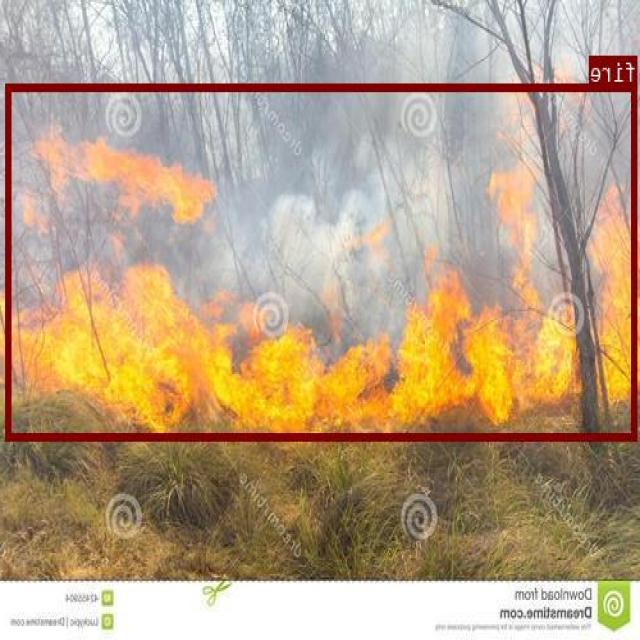fire: (7, 83, 638, 439)
